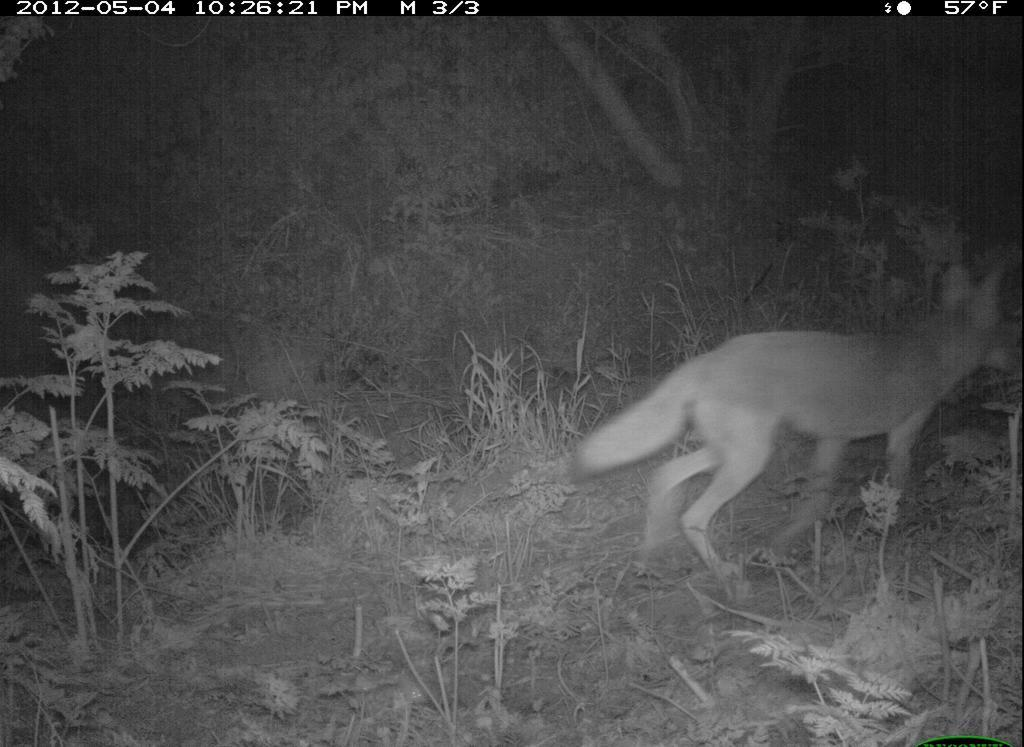coyote: (568, 257, 1018, 583)
